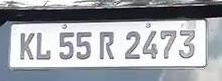2: (123, 30, 139, 59)
3: (177, 29, 195, 58)
4: (141, 29, 158, 58)
5: (74, 31, 92, 59), (57, 31, 74, 60)
7: (158, 29, 176, 59)
K: (19, 32, 34, 61)
L: (35, 32, 50, 61)
R: (98, 30, 114, 59)
